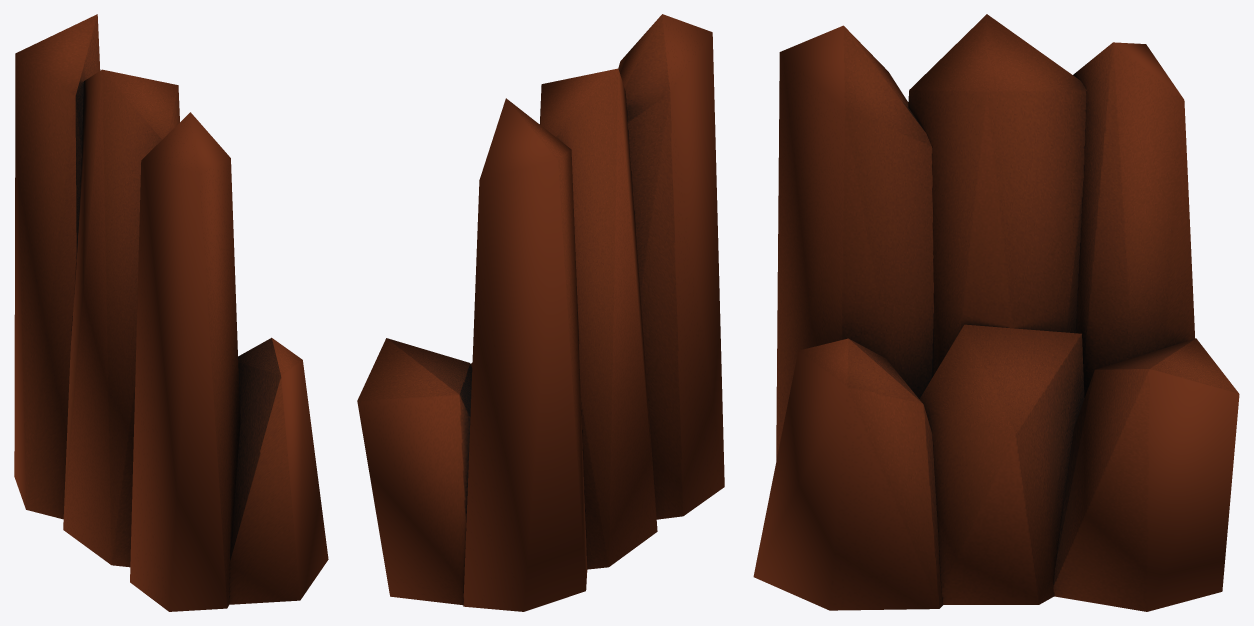
Rendered from Rock_wall.glb.
The picture shows the model from 3 angles, left to right: view 1: azimuth 30°, elevation 25°; view 2: azimuth 150°, elevation 25°; view 3: azimuth 270°, elevation 25°; orthographic projection. The views are drawn at different scales.
Visible parts, largest first — view 1: Rock_wall; view 2: Rock_wall; view 3: Rock_wall.
Part boxes in pixels (left/top/right/bottom): Rock_wall: left=14, top=14, right=328, bottom=611; Rock_wall: left=357, top=14, right=724, bottom=611; Rock_wall: left=753, top=14, right=1239, bottom=611.
Size of the model in its own units: 3.57 by 9.06 by 7.74.
Materials: 1 (1 with a texture image).
